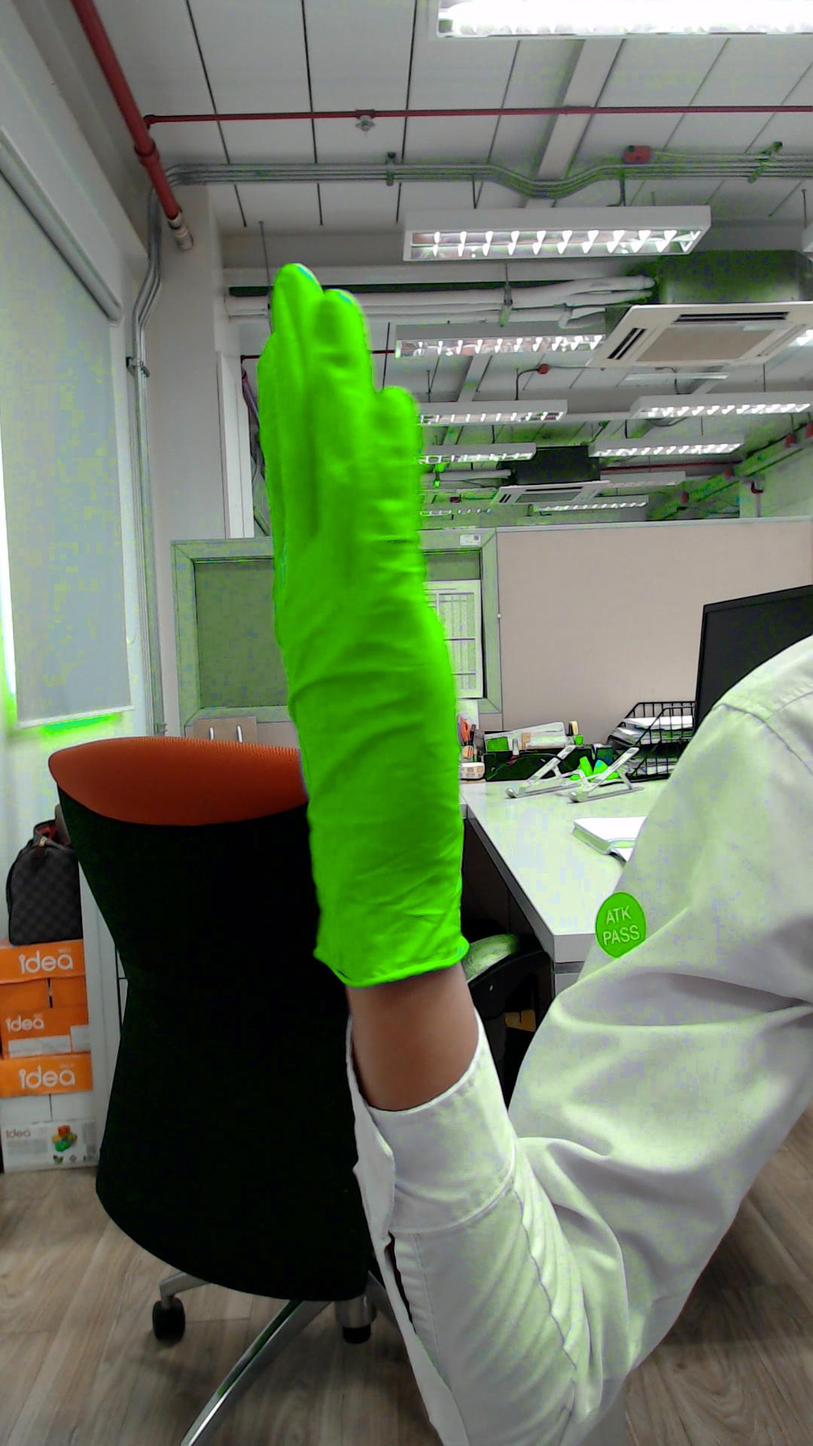gloves: (250, 252, 471, 844)
